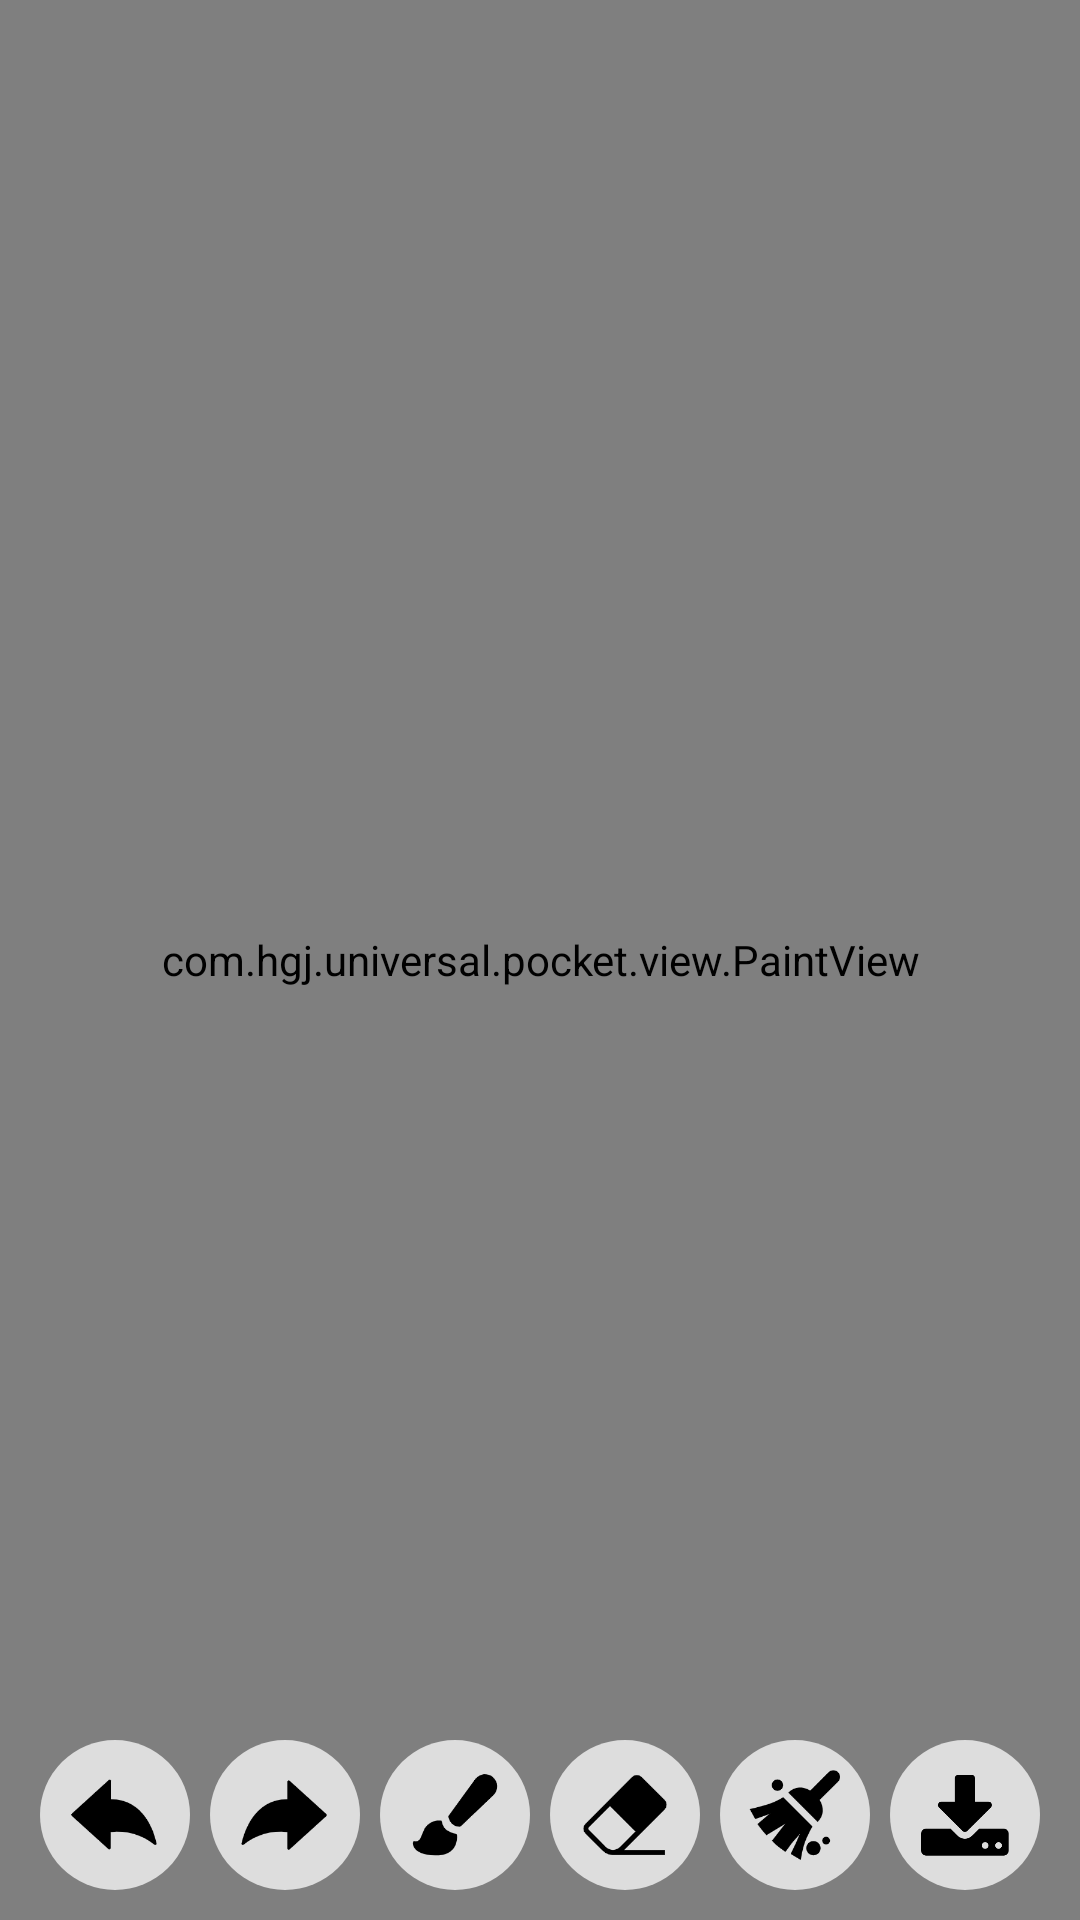

Where icons sit on this 1080x1920 app screen, as [x1, y1, x2, y2]:
clear: [720, 1740, 870, 1890]
download: [890, 1740, 1040, 1890]
eraser: [550, 1740, 700, 1890]
pen: [380, 1740, 530, 1890]
redo: [210, 1740, 360, 1890]
undo: [40, 1740, 190, 1890]
